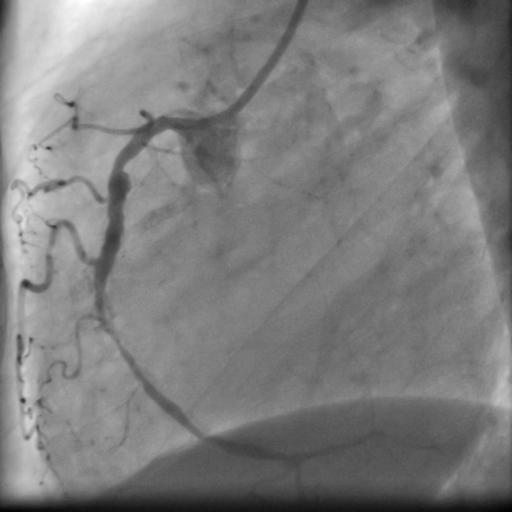Stenosis: (113, 148, 130, 174)
